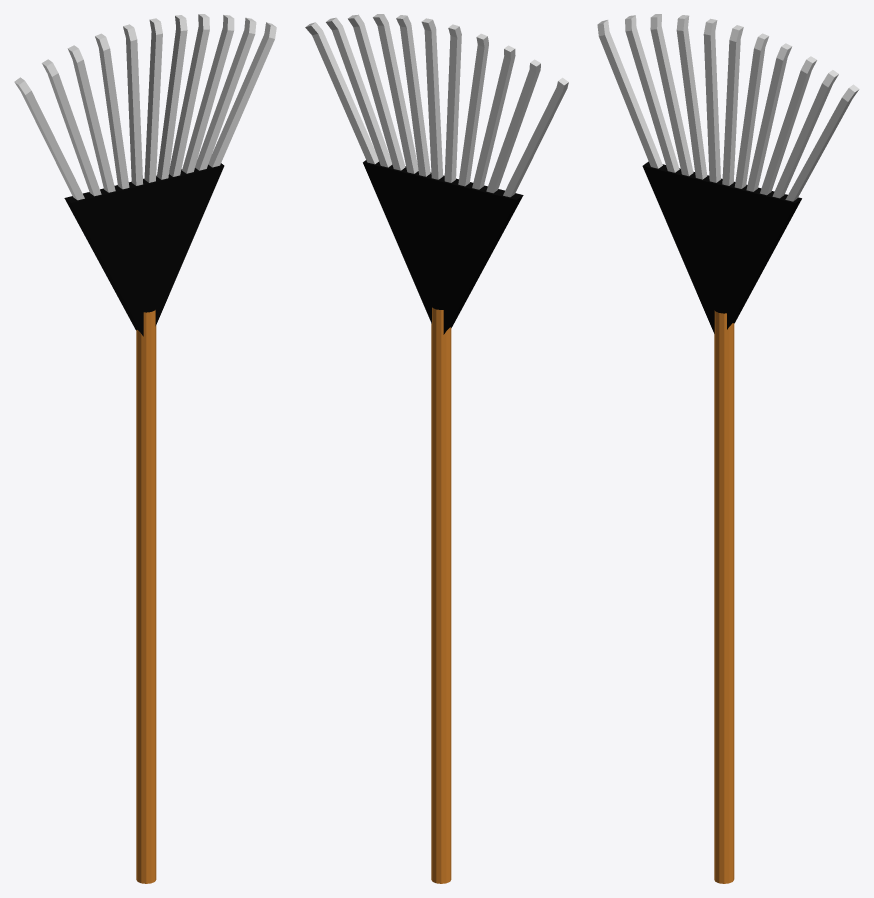
Rendered from rake.fbx.
3 views of the same model, side by side, from view 1: azimuth 30°, elevation 25°; view 2: azimuth 150°, elevation 25°; view 3: azimuth 330°, elevation 25° (orthographic).
Visible parts, largest first — view 1: Plane.001, Circle.002, Plane.005, Plane.004, Plane.006, Plane.003, Plane.008, Plane.007, Plane.002, Plane.009, Plane.010, Plane.011 (+1 smaller); view 2: Plane.001, Circle.002, Plane.005, Plane.004, Plane.006, Plane.003, Plane.008, Plane.002, Plane.007, Plane.009, Plane.010, Plane.011 (+1 smaller); view 3: Plane.001, Circle.002, Plane.010, Plane.009, Plane.011, Plane.007, Plane.012, Plane.008, Plane.006, Plane.005, Plane.004, Plane.003 (+1 smaller).
Part boxes in pixels (x1,y1,x2,y2): Plane.001: [64, 163, 224, 336]; Circle.002: [136, 310, 156, 883]; Plane.005: [169, 14, 209, 176]; Plane.004: [182, 14, 234, 173]; Plane.006: [157, 15, 187, 179]; Plane.003: [195, 17, 256, 170]; Plane.008: [144, 18, 162, 182]; Plane.007: [123, 24, 142, 185]; Plane.002: [208, 22, 276, 167]; Plane.009: [95, 33, 129, 189]; Plane.010: [67, 45, 115, 192]; Plane.011: [42, 59, 101, 196]; Plane.001: [363, 160, 523, 334]; Circle.002: [431, 307, 451, 883]; Plane.005: [373, 14, 418, 173]; Plane.004: [348, 14, 405, 170]; Plane.006: [396, 15, 430, 176]; Plane.003: [326, 17, 392, 167]; Plane.008: [421, 18, 443, 179]; Plane.002: [305, 22, 378, 164]; Plane.007: [444, 24, 461, 182]; Plane.009: [458, 33, 488, 186]; Plane.010: [472, 45, 515, 189]; Plane.011: [486, 59, 540, 193]; Plane.001: [642, 161, 801, 333]; Circle.002: [714, 310, 734, 883]; Plane.010: [650, 14, 693, 176]; Plane.009: [676, 15, 707, 179]; Plane.011: [625, 15, 679, 172]; Plane.007: [703, 18, 720, 182]; Plane.012: [597, 20, 662, 168]; Plane.008: [722, 25, 743, 185]; Plane.006: [734, 33, 768, 188]; Plane.005: [746, 43, 792, 191]; Plane.004: [760, 56, 816, 195]; Plane.003: [772, 70, 838, 198].
Size of the model in its own units: 122 by 387 by 8.21.
